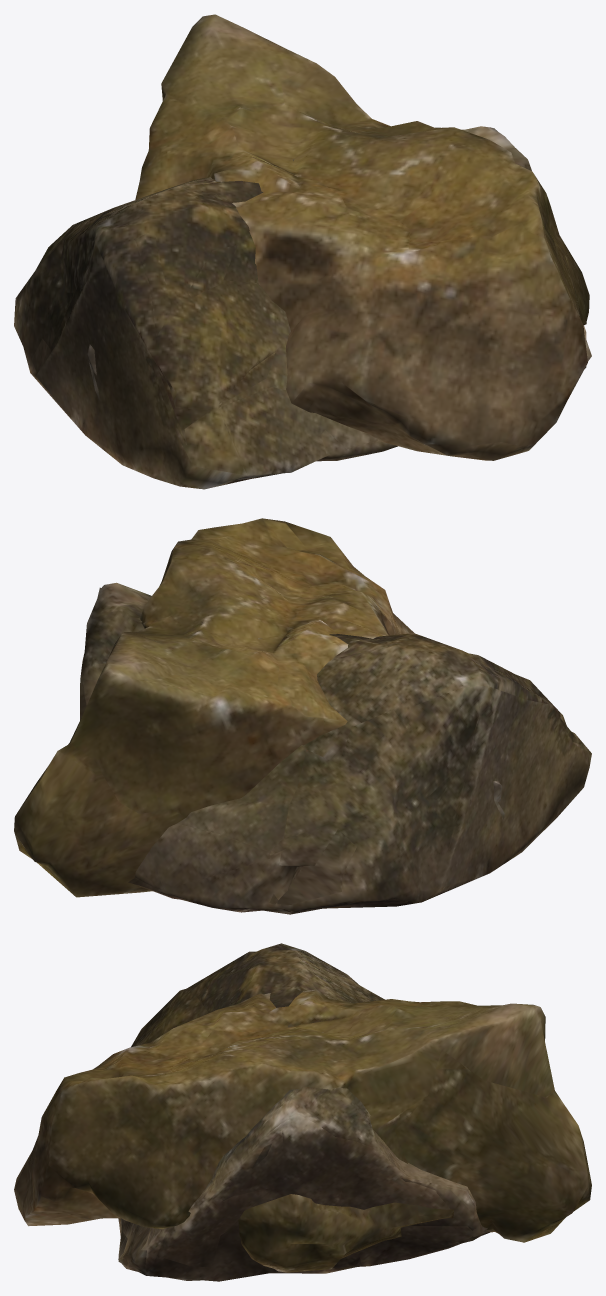
The model's file is rocks.gltf.
The picture shows the model from 3 angles, top to bottom: view 1: azimuth 30°, elevation 25°; view 2: azimuth 150°, elevation 25°; view 3: azimuth 270°, elevation 25°; orthographic projection. The views are drawn at different scales.
Visible parts, largest first — view 1: rock_06, rock_03, pebble_03; view 2: rock_06, rock_03, pebble_03; view 3: rock_06, pebble_03, rock_03.
Part boxes in pixels (x1,y1,x2,y2): rock_06: [87, 14, 589, 460]; rock_03: [14, 126, 591, 488]; pebble_03: [31, 128, 586, 489]; rock_06: [14, 518, 504, 897]; rock_03: [82, 582, 591, 914]; pebble_03: [80, 587, 582, 908]; rock_06: [14, 989, 591, 1272]; pebble_03: [118, 951, 493, 1281]; rock_03: [118, 943, 487, 1280].
Bounding box in the file's own units: 2.13 × 1.26 × 2.76.
Materials: 1 (1 with a texture image).
